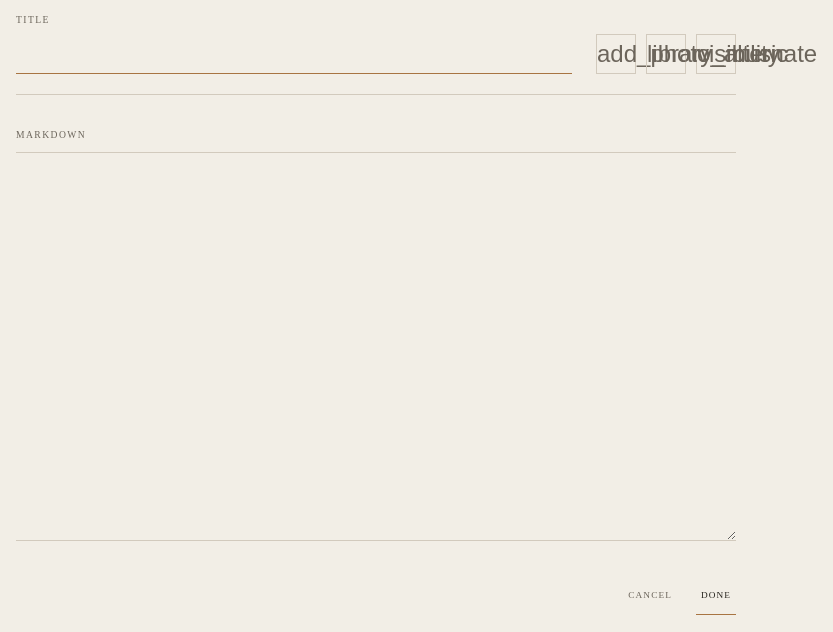
Scenario: Editor draft leave › keeps the draft editor open when a registered leave cannot persist
The image size is (833, 632).
Type "Cannot lose this" into the text box named "Markdown body" at {"x": 376, "y": 346}, box [16, 152, 736, 541]
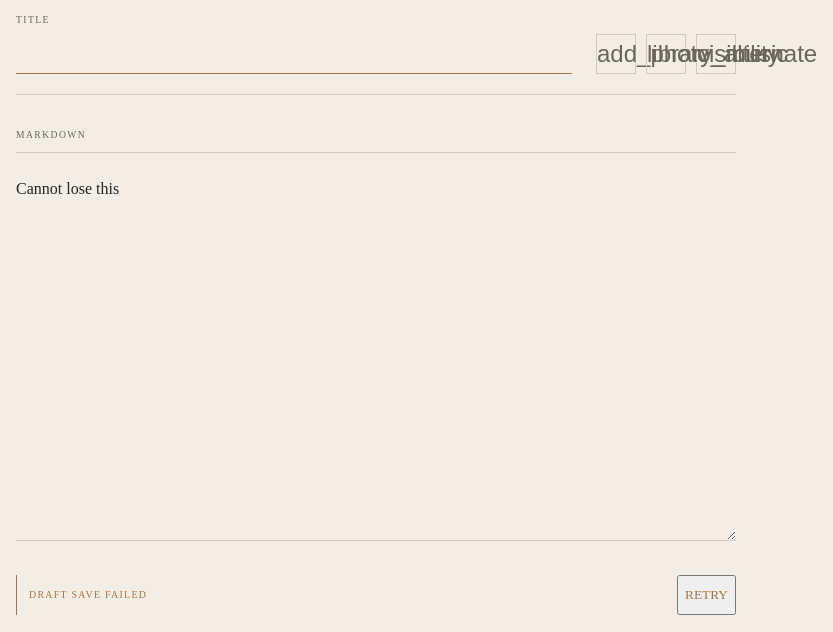
Now the text "DRAFT SAVE FAILED" is shown, box [29, 589, 147, 600]
